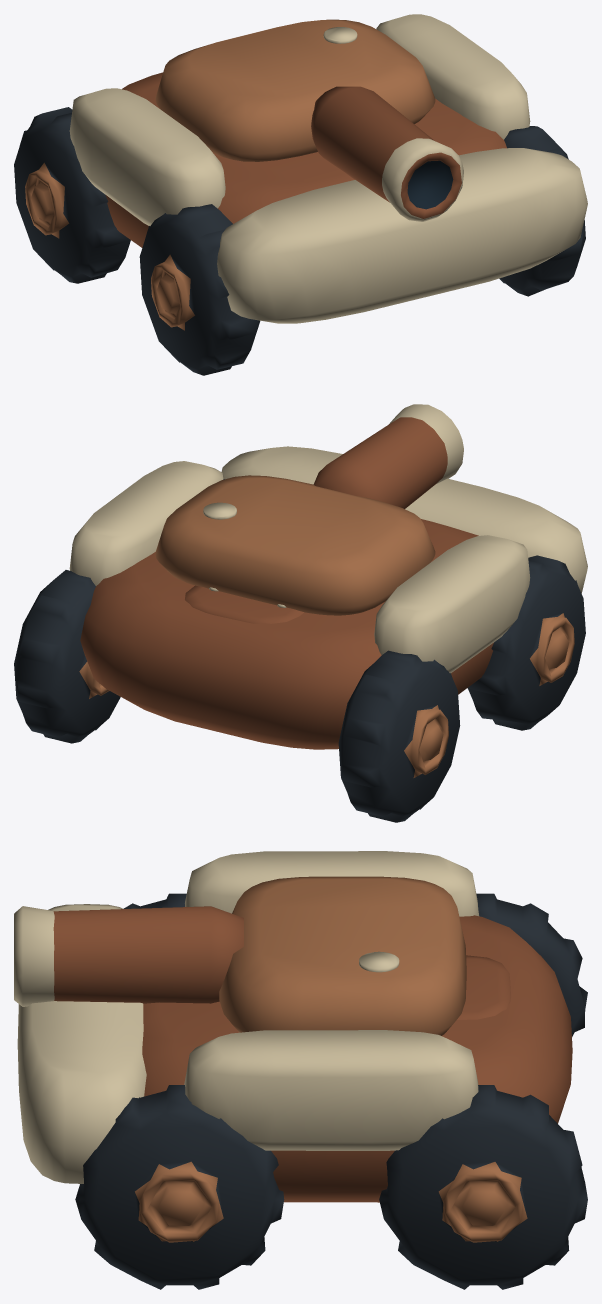
The model's file is TOY_ROOKIE.lo.glb.
3 views of the same model, one above another, from view 1: azimuth 30°, elevation 25°; view 2: azimuth 150°, elevation 25°; view 3: azimuth 270°, elevation 25° (orthographic). The views are drawn at different scales.
Parts seen in each view (by area): view 1: Body, TurretYaw, WheelsFront, BarrelRecoil, WheelsRear; view 2: Body, TurretYaw, WheelsRear, WheelsFront, BarrelRecoil; view 3: Body, WheelsRear, TurretYaw, WheelsFront, BarrelRecoil.
Boxes of the visible parts, x1,y1,x2,y2 form: Body: [69, 14, 587, 323]; TurretYaw: [155, 19, 435, 161]; WheelsFront: [139, 126, 585, 375]; BarrelRecoil: [311, 86, 463, 221]; WheelsRear: [14, 107, 130, 283]; Body: [69, 446, 587, 749]; TurretYaw: [155, 475, 435, 615]; WheelsRear: [14, 570, 460, 822]; WheelsFront: [223, 479, 585, 730]; BarrelRecoil: [313, 404, 463, 508]; Body: [17, 851, 572, 1202]; WheelsRear: [379, 893, 587, 1289]; TurretYaw: [219, 876, 466, 1035]; WheelsFront: [75, 893, 284, 1289]; BarrelRecoil: [14, 906, 243, 1006].
Bounding box in the file's own units: 0.7551 × 0.4168 × 0.786.
